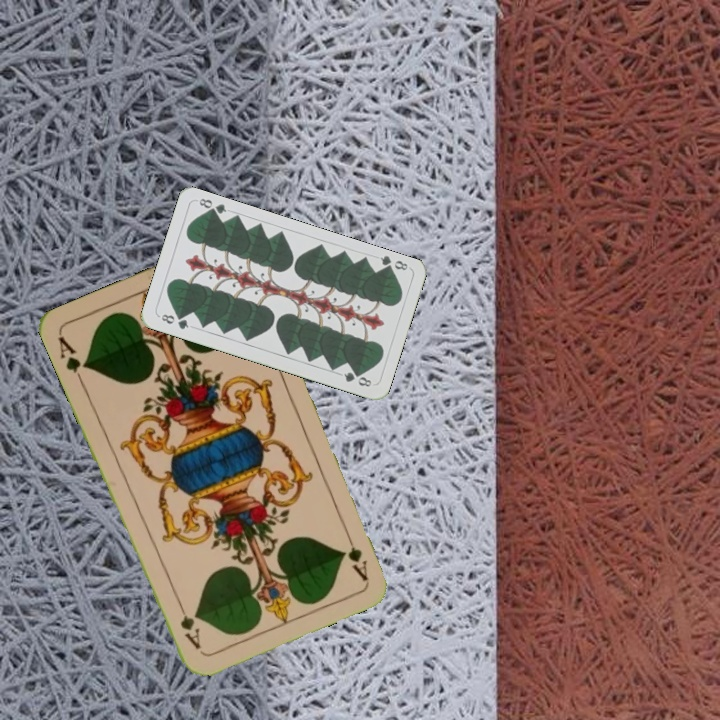G8: (376, 252, 410, 275), (157, 310, 191, 332)
GA: (54, 332, 91, 388), (341, 525, 370, 583)
